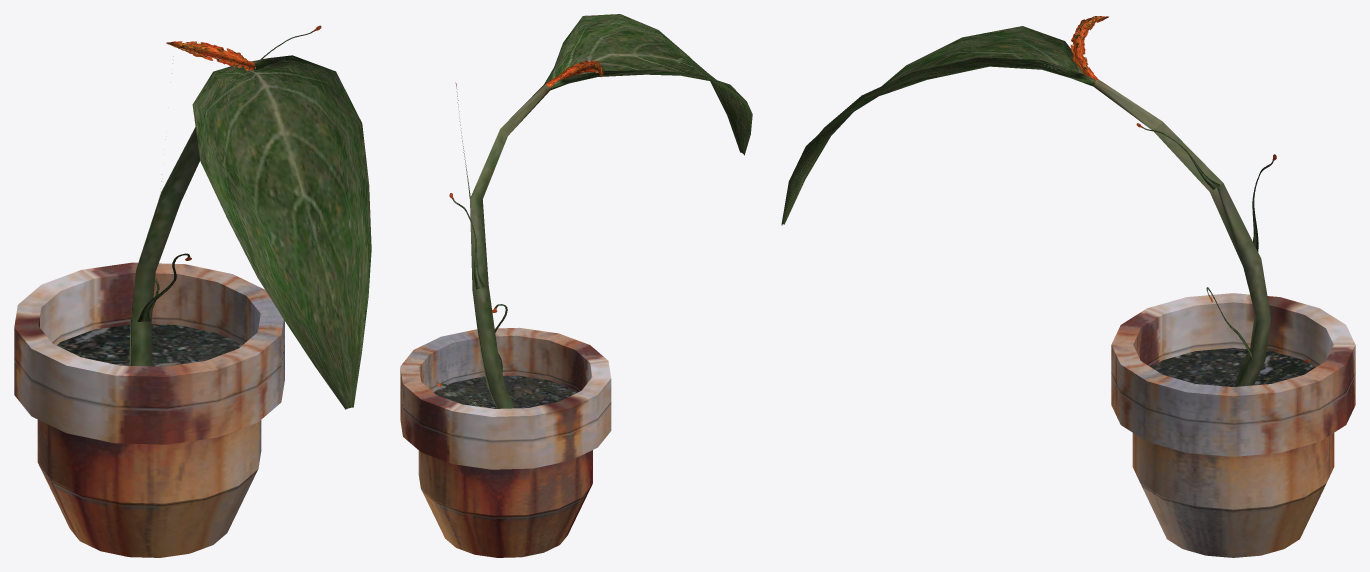
The model's file is frn_quest_fs_plant_2_l0.fbx.
3 views of the same model, side by side, from view 1: azimuth 30°, elevation 25°; view 2: azimuth 150°, elevation 25°; view 3: azimuth 270°, elevation 25° (orthographic). The views are drawn at different scales.
Parts seen in each view (by area): view 1: mesh_node; view 2: mesh_node; view 3: mesh_node.
Part boxes in pixels (bbox=[...]): mesh_node: bbox=[14, 25, 371, 557]; mesh_node: bbox=[400, 14, 752, 557]; mesh_node: bbox=[781, 16, 1355, 557].
Size of the model in its own units: 0.6416 by 1.42 by 1.5.
Materials: 3 (3 with a texture image).
